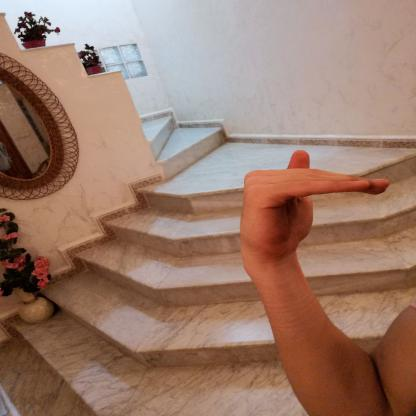KHAA: (227, 140, 402, 273)
